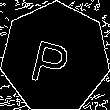P_N: (32, 29, 79, 86)
